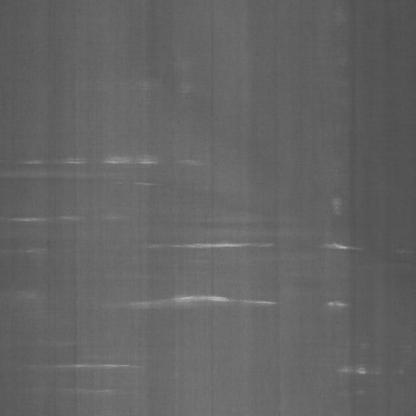waist_folding: (44, 45, 376, 393)
